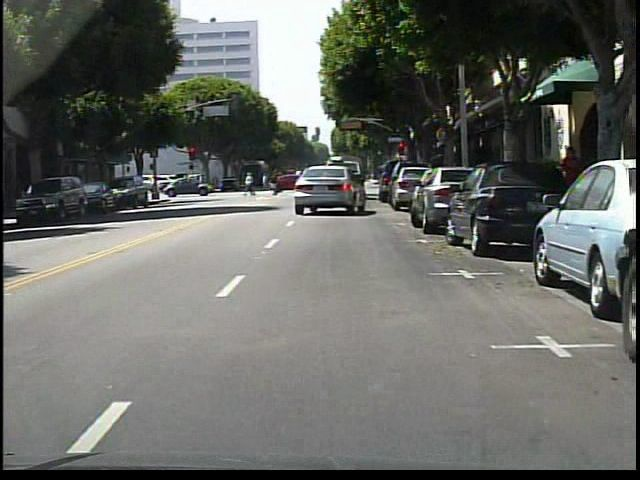person: (559, 142, 587, 214), (244, 171, 258, 196), (271, 169, 283, 197), (262, 173, 268, 190)
